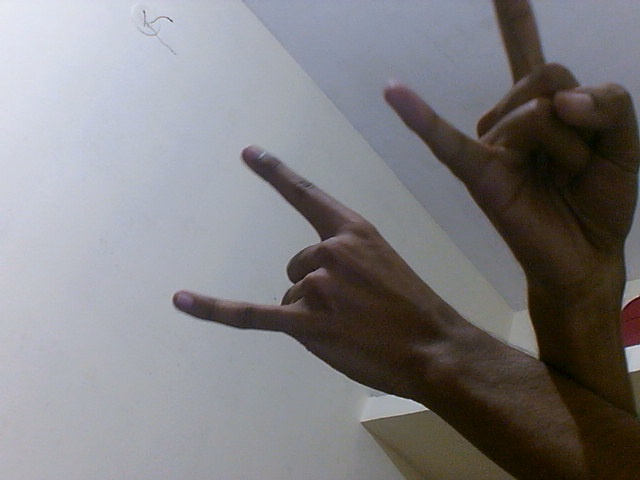hand: (165, 143, 478, 415), (379, 1, 640, 305)
